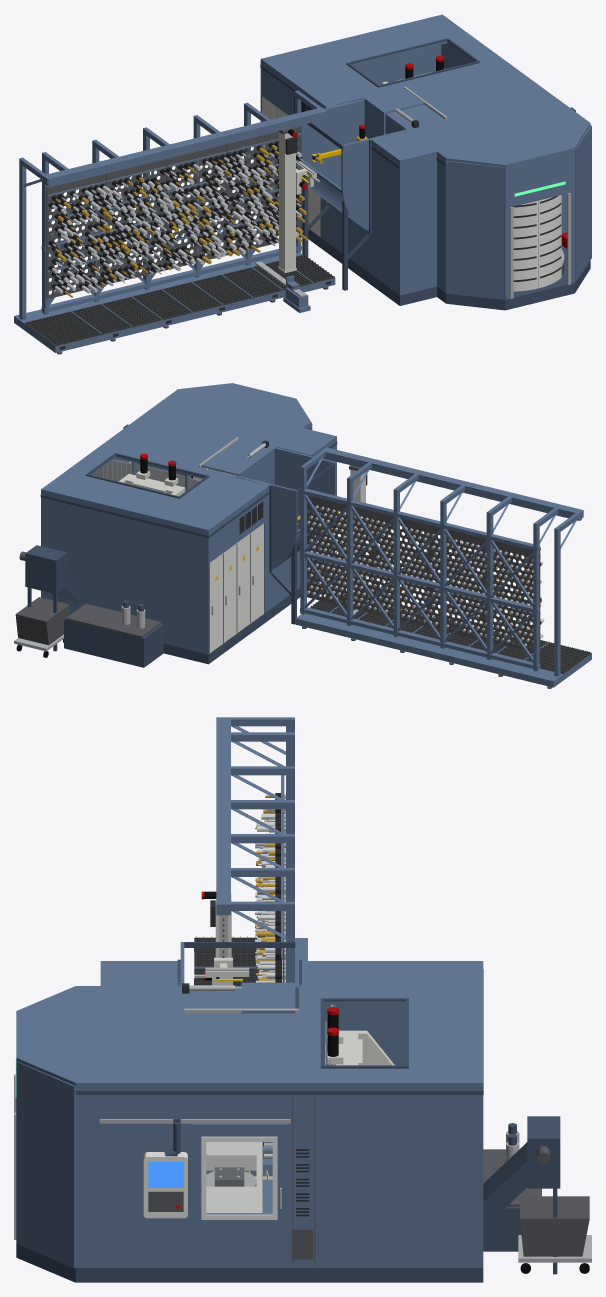
Rendered from clock1200evo_fms_4ax_sidemag_blue.glb.
The picture shows the model from 3 angles, top to bottom: view 1: azimuth 30°, elevation 25°; view 2: azimuth 150°, elevation 25°; view 3: azimuth 270°, elevation 25°; orthographic projection. The views are drawn at different scales.
Visible parts, largest first — view 1: enclosure__mcm_blue, apc_housing__mcm_blue, twm_frame__mcm_blue, twm_tools__holder, twm_frame__anthracite_lt, twm_tools__tool_bright, twm_base__grating, tc_box__mcm_blue, twm_base__mcm_blue, enclosure__mcm_blue_dk, twm_tools__tool_gold, mag_loader__struct_grey (+9 smaller); view 2: enclosure__mcm_blue, twm_frame__mcm_blue, twm_frame__anthracite_lt, chip_coolant__mcm_blue_dk, electrical_cabinet__evo_white, twm_tools__steel, twm_base__mcm_blue, tc_box__mcm_blue, enclosure__mcm_blue_dk, apc_housing__mcm_blue, twm_base__grating, chip_cart__steel_dark (+7 smaller); view 3: enclosure__mcm_blue, apc_housing__mcm_blue, twm_frame__mcm_blue, enclosure__mcm_blue_dk, chip_coolant__mcm_blue_dk, operator_door__glass_clear, operator_door__mcm_blue, chip_cart__steel_dark, table__struct_grey, twm_tools__tool_bright, operator_door__evo_white, enclosure__steel (+12 smaller).
Boxes of the visible parts, x1,y1,x2,y2 form: enclosure__mcm_blue: (260,14,580,295); apc_housing__mcm_blue: (437,116,591,299); twm_frame__mcm_blue: (19,90,327,320); twm_tools__holder: (48,141,302,294); twm_frame__anthracite_lt: (46,126,301,299); twm_tools__tool_bright: (51,144,303,293); twm_base__grating: (25,254,334,346); tc_box__mcm_blue: (302,99,407,230); twm_base__mcm_blue: (14,252,335,352); enclosure__mcm_blue_dk: (260,38,480,305); twm_tools__tool_gold: (55,145,308,297); mag_loader__struct_grey: (278,131,296,273); enclosure__mcm_blue: (41,395,336,654); twm_frame__mcm_blue: (300,447,583,676); twm_frame__anthracite_lt: (307,495,540,653); chip_coolant__mcm_blue_dk: (25,545,163,667); electrical_cabinet__evo_white: (210,523,263,652); twm_tools__steel: (306,505,533,646); twm_base__mcm_blue: (295,600,591,687); tc_box__mcm_blue: (236,447,336,569); enclosure__mcm_blue_dk: (40,442,337,664); apc_housing__mcm_blue: (170,383,312,477); twm_base__grating: (310,593,591,673); chip_cart__steel_dark: (15,597,69,645); enclosure__mcm_blue: (100,961,483,1267); apc_housing__mcm_blue: (16,986,100,1268); twm_frame__mcm_blue: (216,717,294,982); enclosure__mcm_blue_dk: (100,959,483,1282); chip_coolant__mcm_blue_dk: (483,1116,560,1274); operator_door__glass_clear: (207,1142,271,1213); operator_door__mcm_blue: (191,1123,287,1231); chip_cart__steel_dark: (520,1196,589,1256); table__struct_grey: (206,1142,262,1212); twm_tools__tool_bright: (255,799,275,982); operator_door__evo_white: (201,1136,277,1219); enclosure__steel: (99,985,298,1123).
Size of the model in its own units: 11.15 by 3.54 by 7.86.
